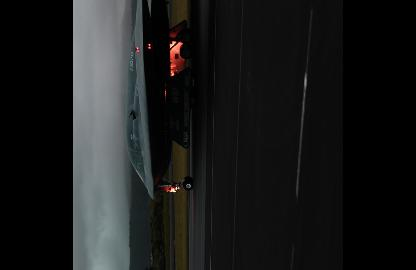B1: (125, 0, 198, 200)
